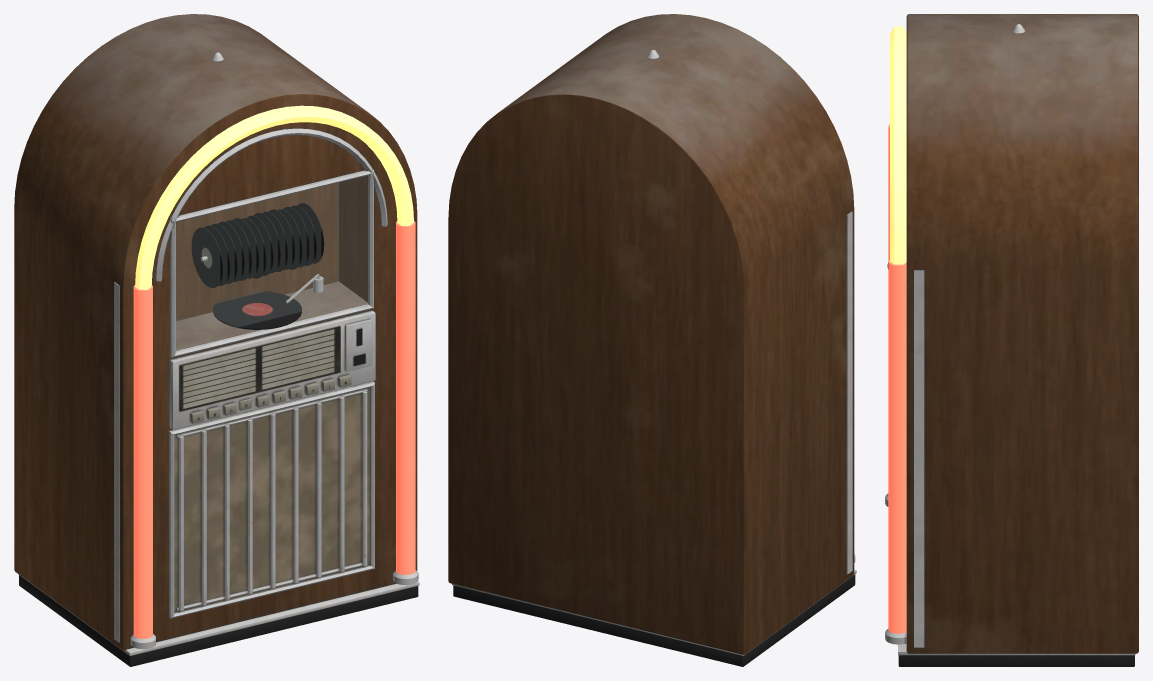
File: jukebox.glb
The picture shows the model from 3 angles, left to right: view 1: azimuth 30°, elevation 25°; view 2: azimuth 150°, elevation 25°; view 3: azimuth 270°, elevation 25°; orthographic projection. The views are drawn at different scales.
Visible parts, largest first — view 1: jukebox, vidro_frente, luz_vermelha, luz_ambar; view 2: jukebox; view 3: jukebox, luz_vermelha, luz_ambar.
Part boxes in pixels (bbox=[...]): jukebox: bbox=[14, 14, 419, 666]; vidro_frente: bbox=[176, 176, 367, 349]; luz_vermelha: bbox=[133, 221, 415, 638]; luz_ambar: bbox=[135, 105, 413, 289]; jukebox: bbox=[448, 14, 856, 666]; jukebox: bbox=[885, 14, 1138, 666]; luz_vermelha: bbox=[888, 124, 906, 633]; luz_ambar: bbox=[890, 26, 906, 264].
Size of the model in its own units: 0.905 by 1.57 by 0.634.
4 materials, 1 textured.
